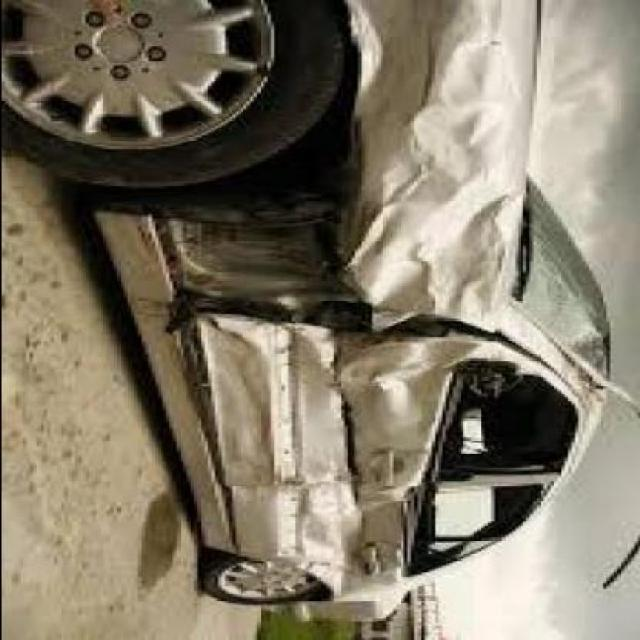damage: (117, 3, 610, 610)
